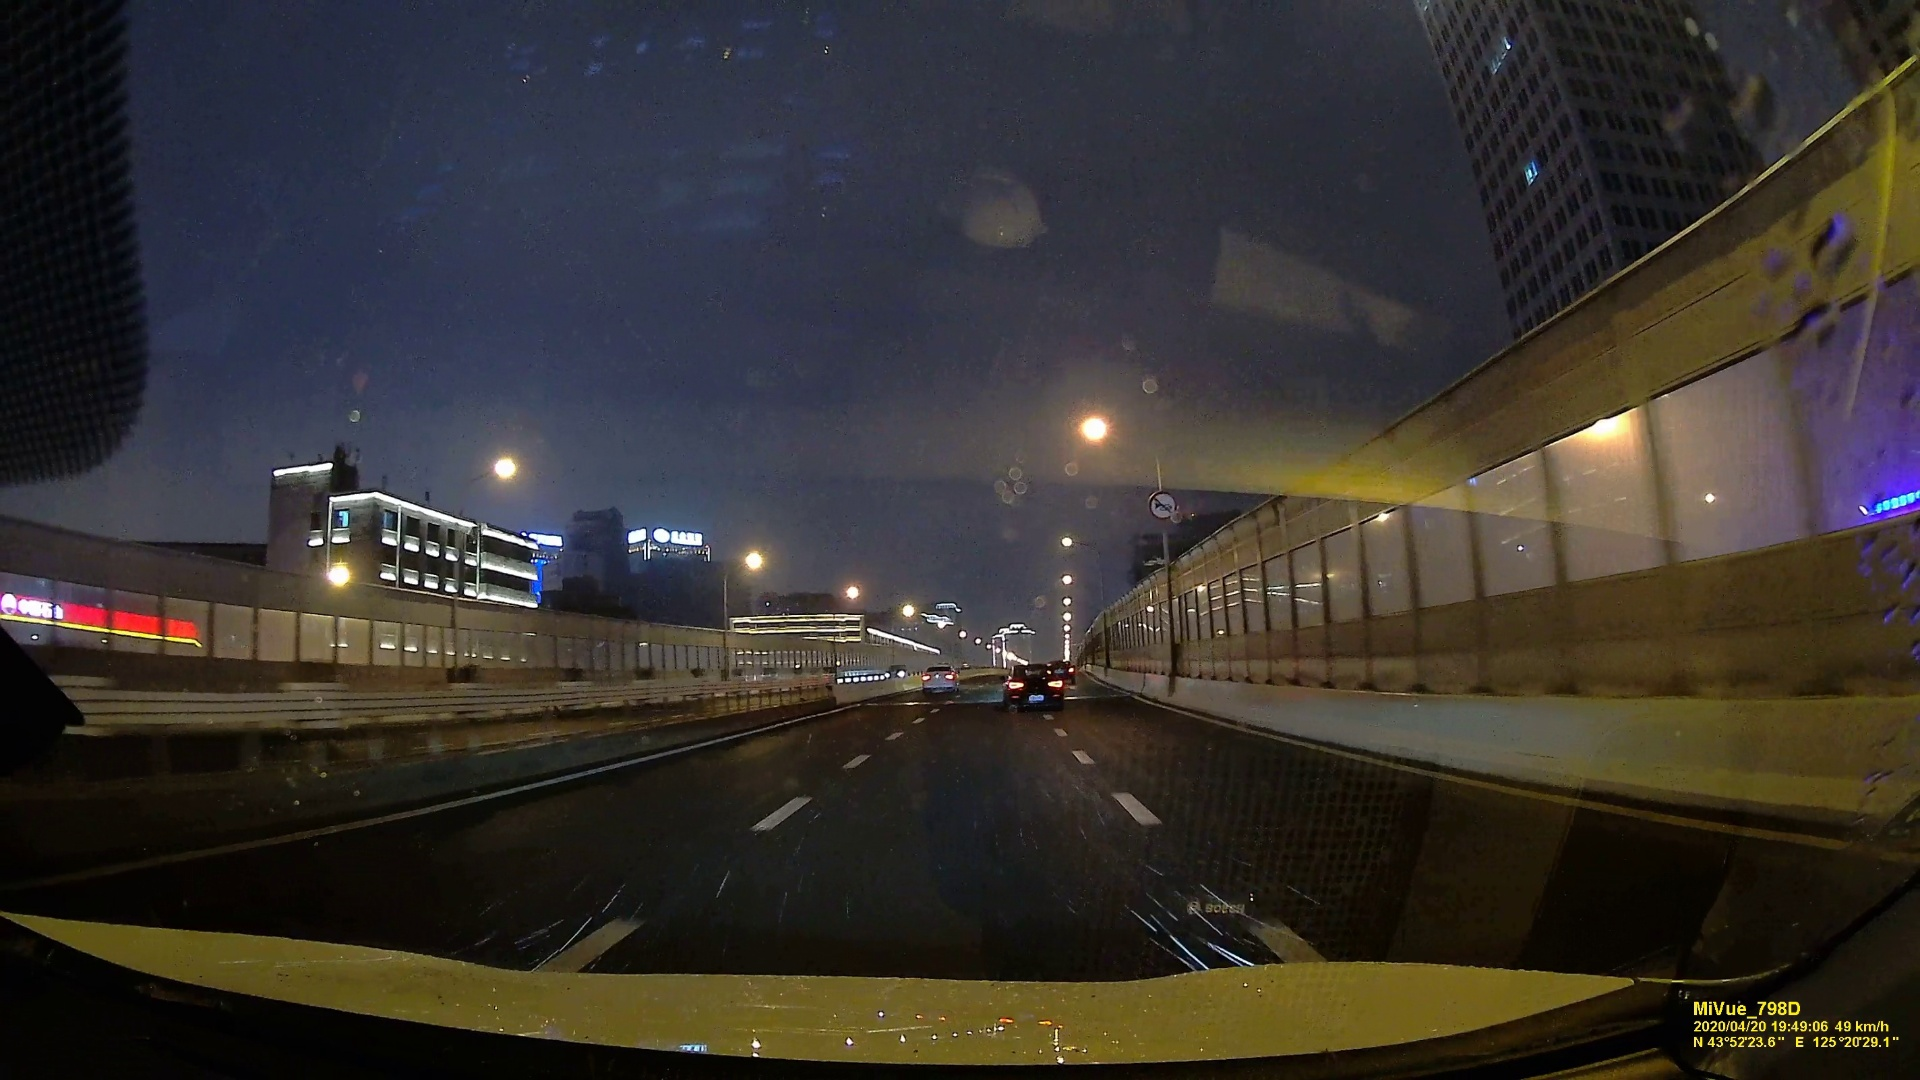traffic_sign: (1149, 491, 1178, 518)
vehicle: (1000, 662, 1062, 708), (922, 663, 957, 692)
